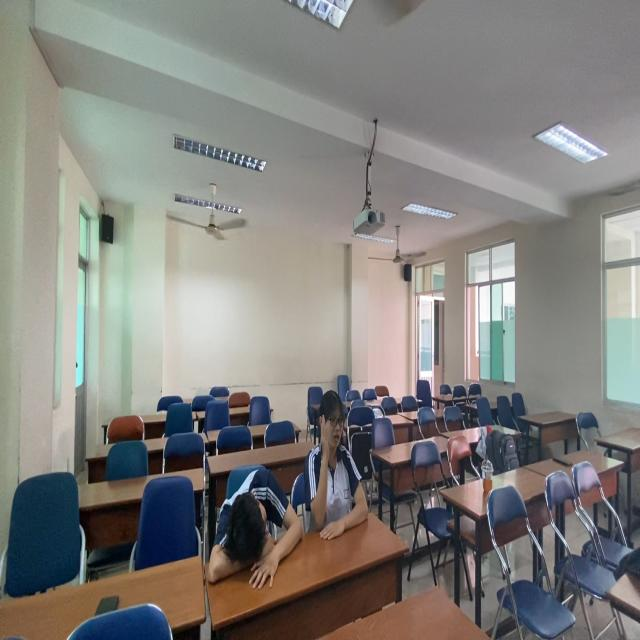raise_hand: (306, 388, 372, 540)
sleep: (206, 462, 307, 589)
